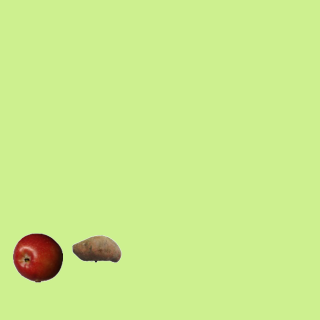Apple Braeburn: (12, 232, 62, 282)
Potato Sweet: (71, 223, 121, 273)
